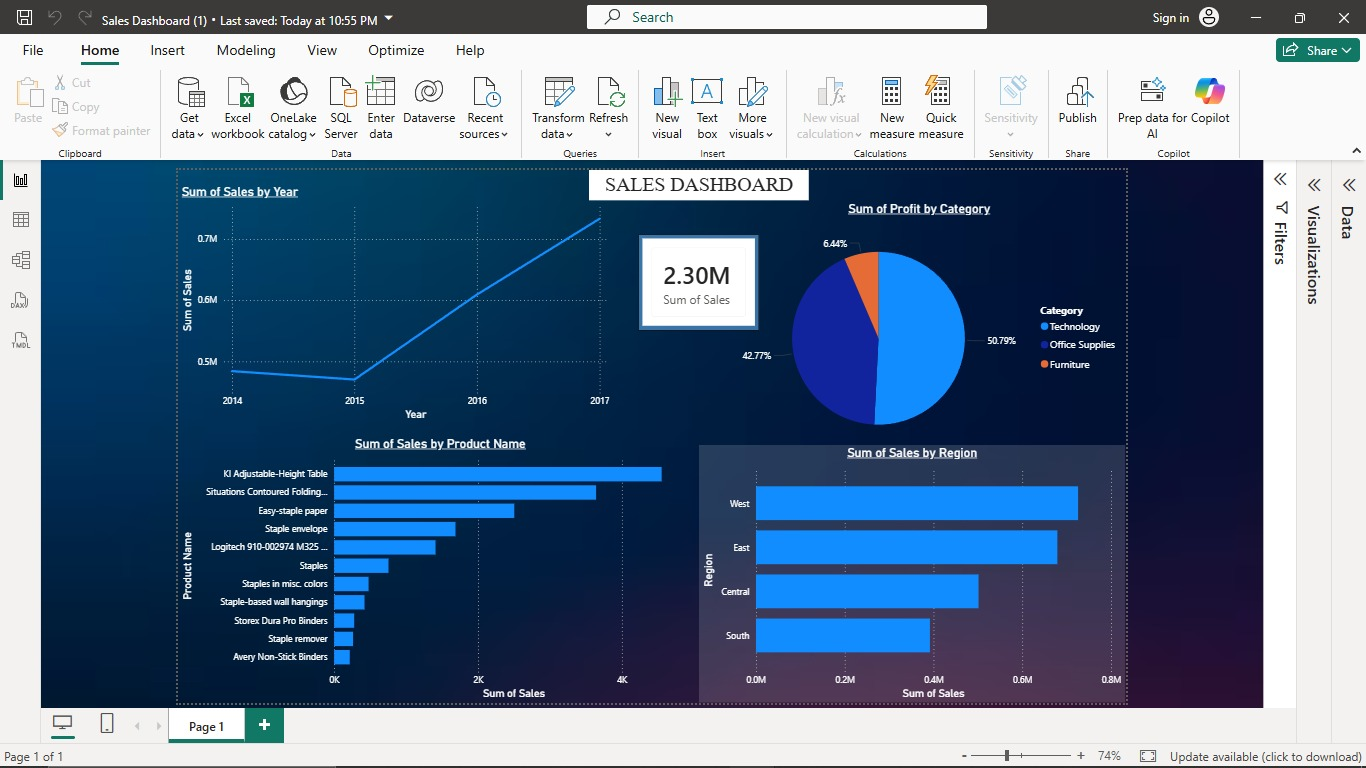

This screenshot's page, from the dashboard's own definition file:
{"tool":"powerbi","page":{"name":"Page 1","canvas":[1280,720],"ordinal":0},"visuals":[{"type":"clusteredBarChart","fields":{"Category":["Sample - Superstore.Region"],"Y":["Sum(Sample - Superstore.Sales)"]},"box":[704,372,576,348],"z":0},{"type":"lineChart","fields":{"Category":["Sample - Superstore.Order Date.Variation.Date Hierarchy.Year","Sample - Superstore.Order Date.Variation.Date Hierarchy.Quarter","Sample - Superstore.Order Date.Variation.Date Hierarchy.Month","Sample - Superstore.Order Date.Variation.Date Hierarchy.Day"],"Y":["Sum(Sample - Superstore.Sales)"]},"box":[0,18.3,587.8,324.2],"z":1000},{"type":"clusteredBarChart","fields":{"Category":["Sample - Superstore.Product Name"],"Y":["Sum(Sample - Superstore.Sales)"]},"box":[0,359.5,709.1,360.9],"z":2000},{"type":"pieChart","fields":{"Category":["Sample - Superstore.Category"],"Y":["Sum(Sample - Superstore.Profit)"]},"box":[722.7,41.3,557.3,352],"z":3000},{"type":"textbox","box":[555.4,0,297.4,40.9],"z":3001},{"type":"cardVisual","fields":{"Data":["Sum(Sample - Superstore.Sales)"]},"box":[621.3,86.7,164,130.7],"z":3002}]}

Visuals, with their boxes on the page's 1280x720 design canvas (x1, y1, x2, y2). These are canvas units, not pixel positions in the 1366x768 screenshot, which may show the page scaled, cropped or inside an application window:
clusteredBarChart - Sample - Superstore.Region x Sum(Sample - Superstore.Sales): x1=704 y1=372 x2=1280 y2=720
lineChart - Sample - Superstore.Order Date.Variation.Date Hierarchy.Year x Sample - Superstore.Order Date.Variation.Date Hierarchy.Quarter: x1=0 y1=18 x2=588 y2=342
clusteredBarChart - Sample - Superstore.Product Name x Sum(Sample - Superstore.Sales): x1=0 y1=360 x2=709 y2=720
pieChart - Sample - Superstore.Category x Sum(Sample - Superstore.Profit): x1=723 y1=41 x2=1280 y2=393
textbox: x1=555 y1=0 x2=853 y2=41
cardVisual - Sum(Sample - Superstore.Sales): x1=621 y1=87 x2=785 y2=217
